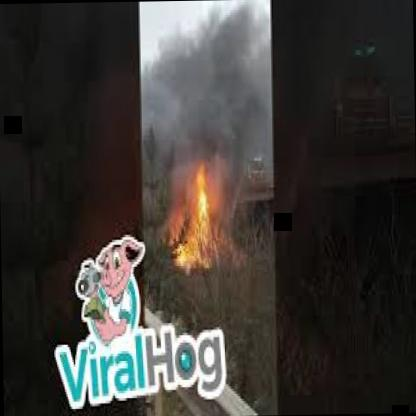fire: (155, 46, 252, 276)
